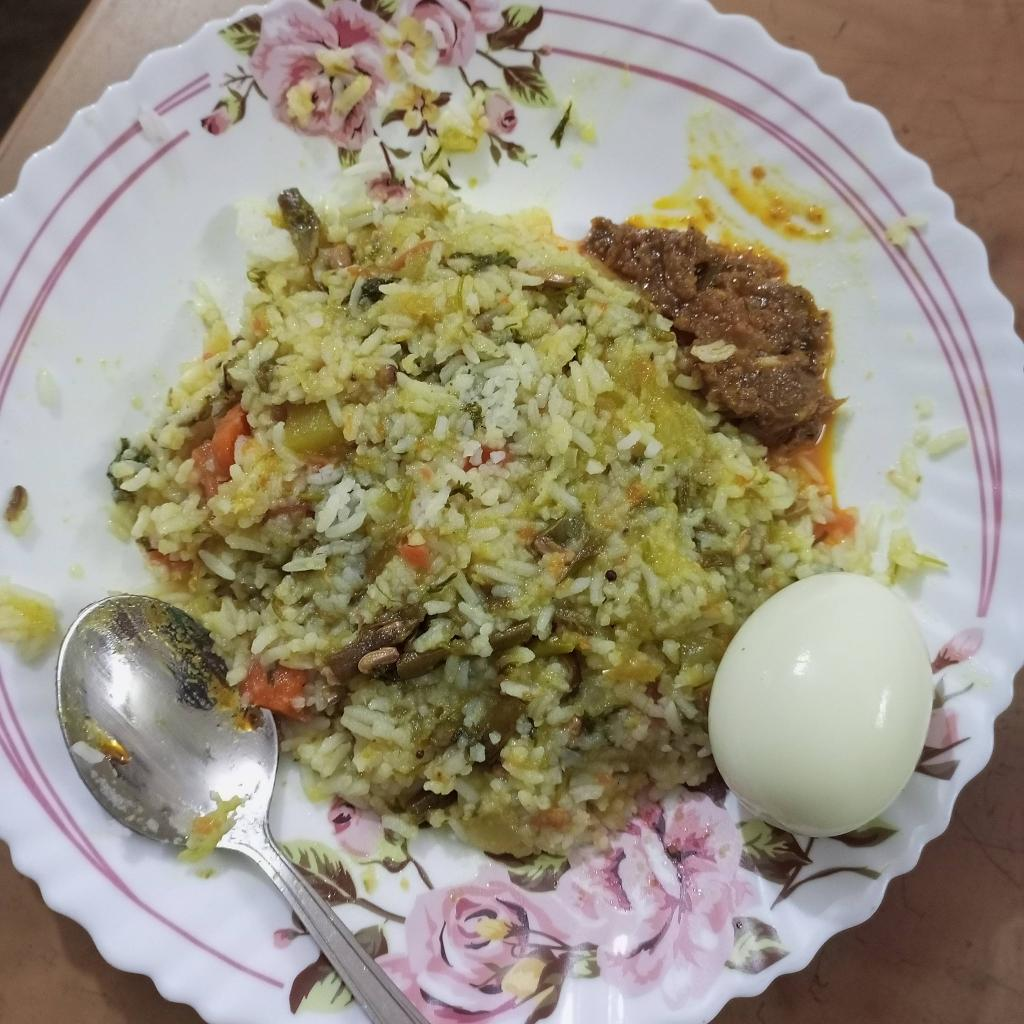achar: (587, 217, 835, 433)
egg-boiled: (707, 570, 934, 837)
khichuri: (108, 172, 929, 858)
